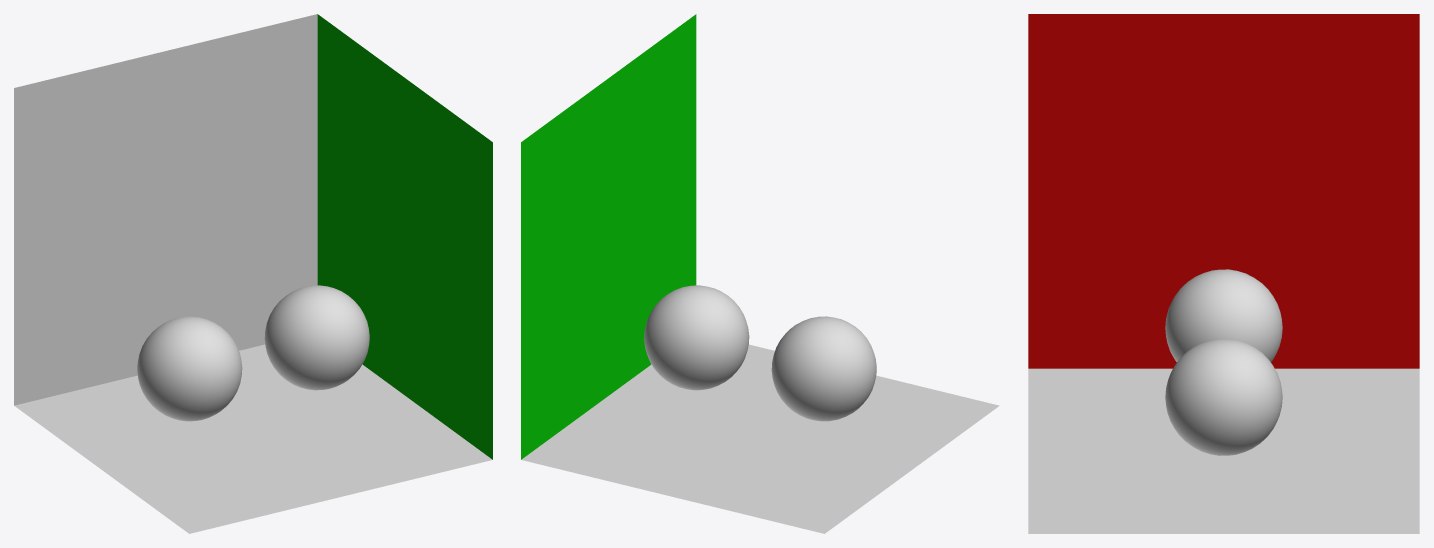
Rendered from cornell_v001.gltf.
3 renders of one model, left to right at view 1: azimuth 30°, elevation 25°; view 2: azimuth 150°, elevation 25°; view 3: azimuth 270°, elevation 25°, orthographic. The views are drawn at different scales.
Parts seen in each view (by area): view 1: cornell, sphere02, sphere01; view 2: cornell, sphere01, sphere02; view 3: cornell, sphere02, sphere01.
Part boxes in pixels (<box>): cornell: <box>14,14,492,533</box>; sphere02: <box>264,285,369,390</box>; sphere01: <box>137,316,242,421</box>; cornell: <box>521,14,999,533</box>; sphere01: <box>771,316,876,421</box>; sphere02: <box>644,285,749,390</box>; cornell: <box>1028,14,1419,533</box>; sphere02: <box>1165,339,1282,455</box>; sphere01: <box>1165,269,1282,361</box>.
Size of the model in its own units: 1 by 1 by 1.
